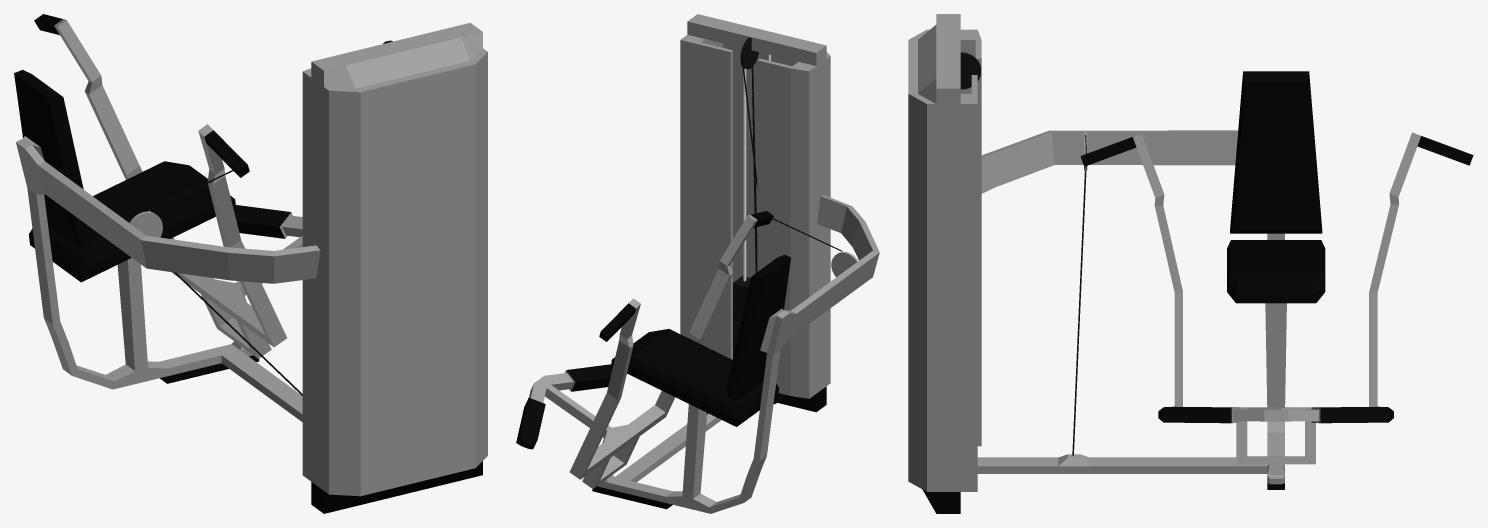
File: ChestPressMachine.fbx
3 renders of one model, left to right at view 1: azimuth 30°, elevation 25°; view 2: azimuth 150°, elevation 25°; view 3: azimuth 270°, elevation 25°, orthographic. The views are drawn at different scales.
Parts seen in each view (by area): view 1: ChestPressMachine; view 2: ChestPressMachine; view 3: ChestPressMachine.
Part boxes in pixels (x1,y1,x2,y2): ChestPressMachine: [14, 14, 487, 513]; ChestPressMachine: [516, 14, 879, 513]; ChestPressMachine: [908, 14, 1473, 513].
Bounding box in the file's own units: 120 × 164 × 198.
